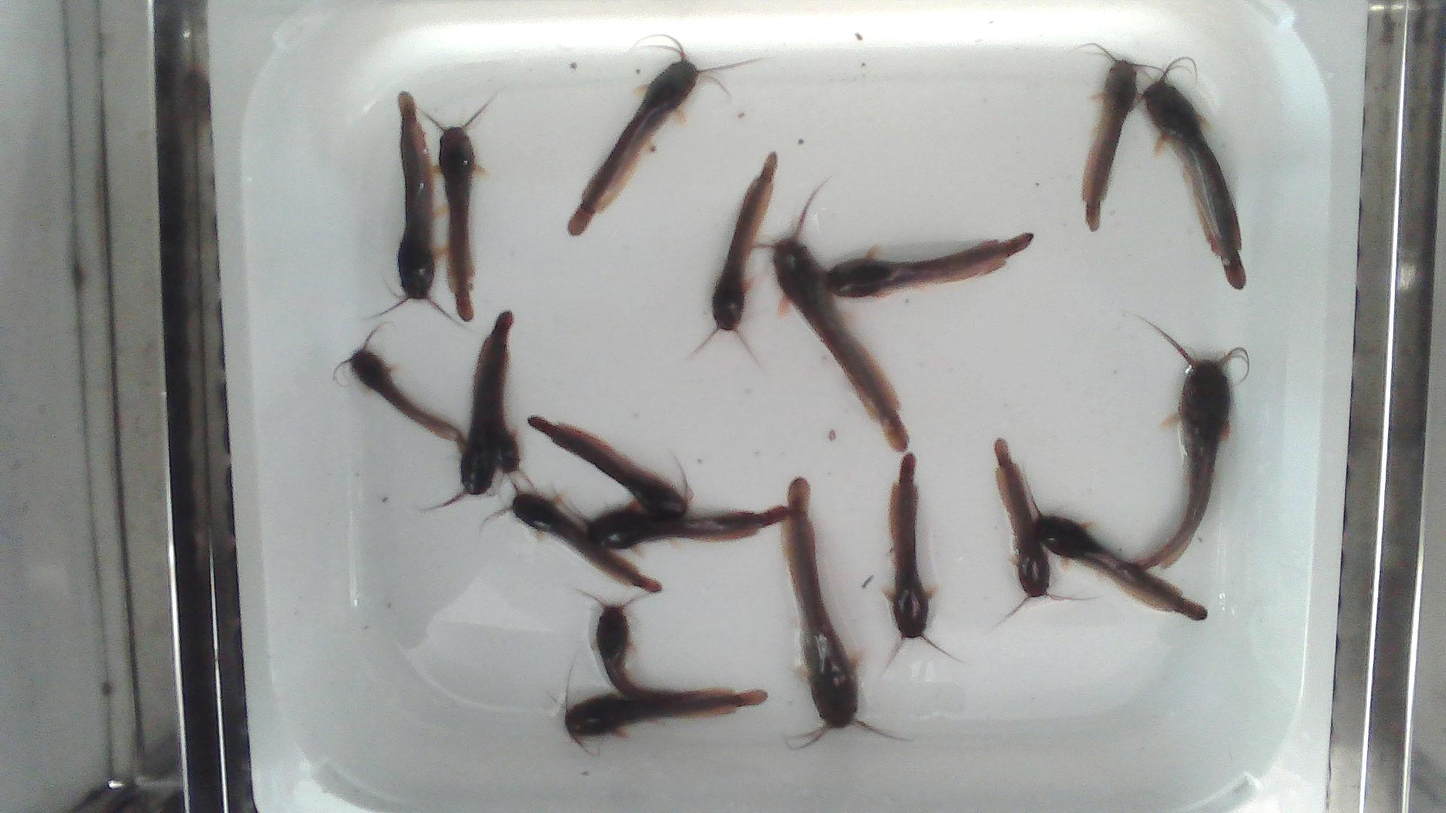lele: (568, 31, 767, 237), (752, 198, 910, 453), (1129, 331, 1251, 570), (780, 478, 887, 747), (1025, 481, 1211, 621), (1138, 56, 1248, 290), (486, 479, 664, 594), (330, 326, 465, 454), (528, 414, 691, 518), (583, 591, 738, 700), (380, 89, 450, 320), (1073, 45, 1158, 232), (435, 311, 512, 509), (420, 104, 486, 324), (564, 686, 766, 755), (993, 439, 1072, 615), (879, 450, 943, 664), (826, 234, 1035, 299), (708, 151, 778, 343), (574, 503, 788, 552), (490, 344, 520, 489)
